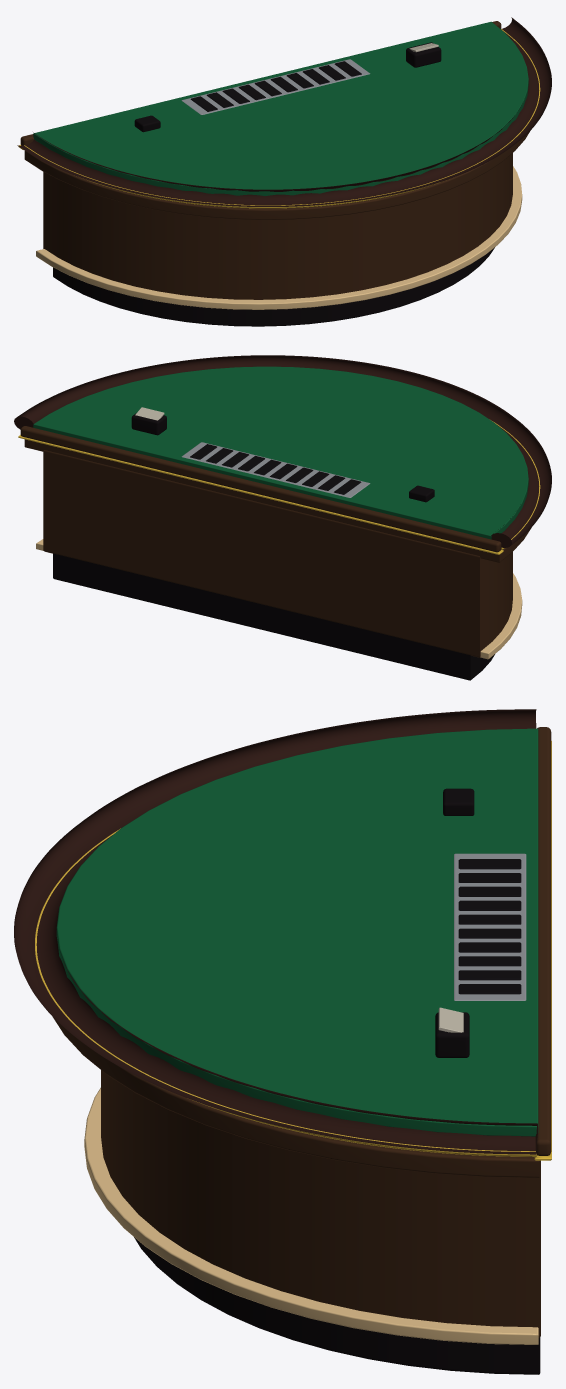
The model's file is blackjack_table.glb.
3 views of the same model, one above another, from view 1: azimuth 30°, elevation 25°; view 2: azimuth 150°, elevation 25°; view 3: azimuth 270°, elevation 25° (orthographic). The views are drawn at different scales.
Visible parts, largest first — view 1: blackjack_felt, blackjack_woodDark, blackjack_leather, blackjack_lacquer, blackjack_brass, blackjack_black, blackjack_steel, blackjack_gold; view 2: blackjack_woodDark, blackjack_felt, blackjack_lacquer, blackjack_leather, blackjack_black, blackjack_steel, blackjack_gold, blackjack_brass; view 3: blackjack_felt, blackjack_woodDark, blackjack_leather, blackjack_lacquer, blackjack_brass, blackjack_black, blackjack_steel, blackjack_gold.
Part boxes in pixels (x1,y1,x2,y2): blackjack_felt: [33, 21, 528, 195]; blackjack_woodDark: [20, 21, 529, 299]; blackjack_leather: [17, 17, 551, 206]; blackjack_lacquer: [53, 42, 494, 326]; blackjack_brass: [36, 166, 522, 309]; blackjack_black: [190, 61, 361, 111]; blackjack_steel: [181, 59, 370, 114]; blackjack_gold: [18, 29, 540, 208]; blackjack_woodDark: [20, 426, 531, 657]; blackjack_felt: [33, 366, 528, 539]; blackjack_lacquer: [53, 413, 494, 680]; blackjack_leather: [14, 355, 551, 547]; blackjack_black: [190, 444, 361, 494]; blackjack_steel: [181, 442, 370, 497]; blackjack_gold: [18, 420, 540, 554]; blackjack_brass: [36, 539, 522, 659]; blackjack_felt: [56, 728, 538, 1136]; blackjack_woodDark: [53, 727, 551, 1337]; blackjack_leather: [14, 709, 537, 1154]; blackjack_lacquer: [134, 788, 540, 1374]; blackjack_brass: [84, 1087, 538, 1344]; blackjack_black: [458, 859, 521, 994]; blackjack_steel: [454, 853, 526, 1000]; blackjack_gold: [35, 741, 551, 1160].
Bounding box in the file's own units: 3.27 × 1.04 × 1.72.
